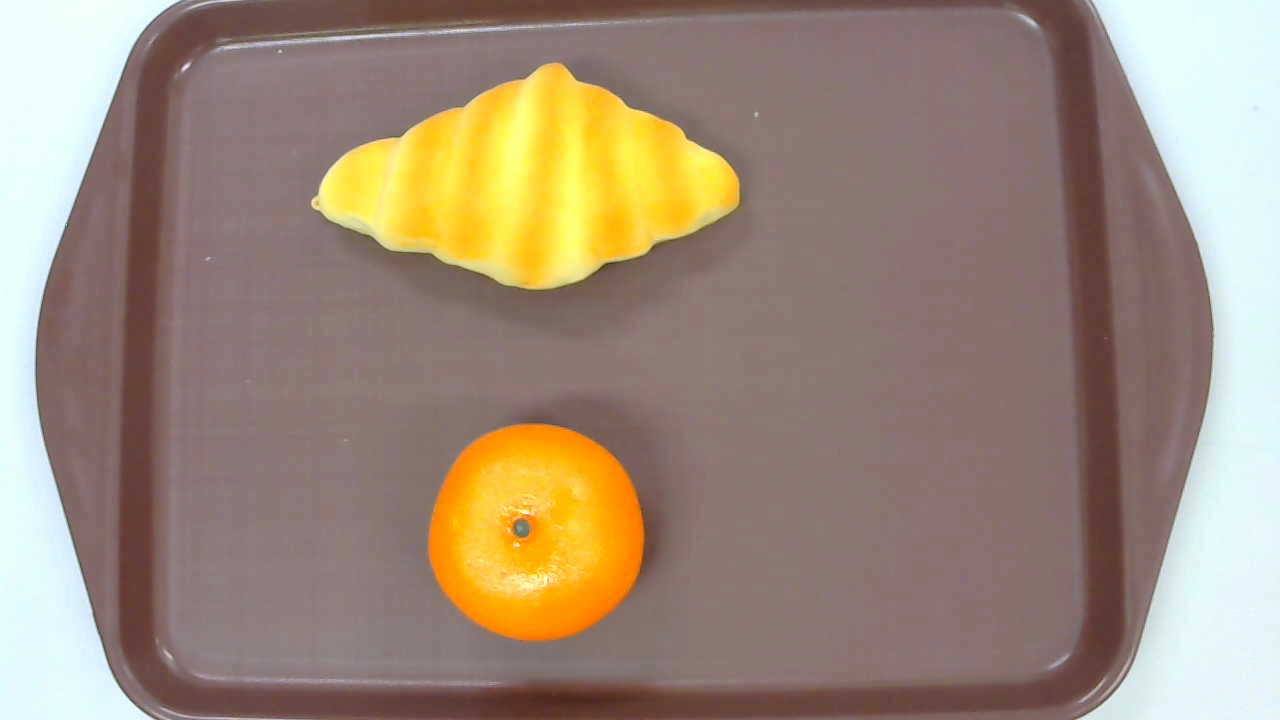croissant: (310, 63, 740, 290)
orange: (427, 422, 645, 641)
